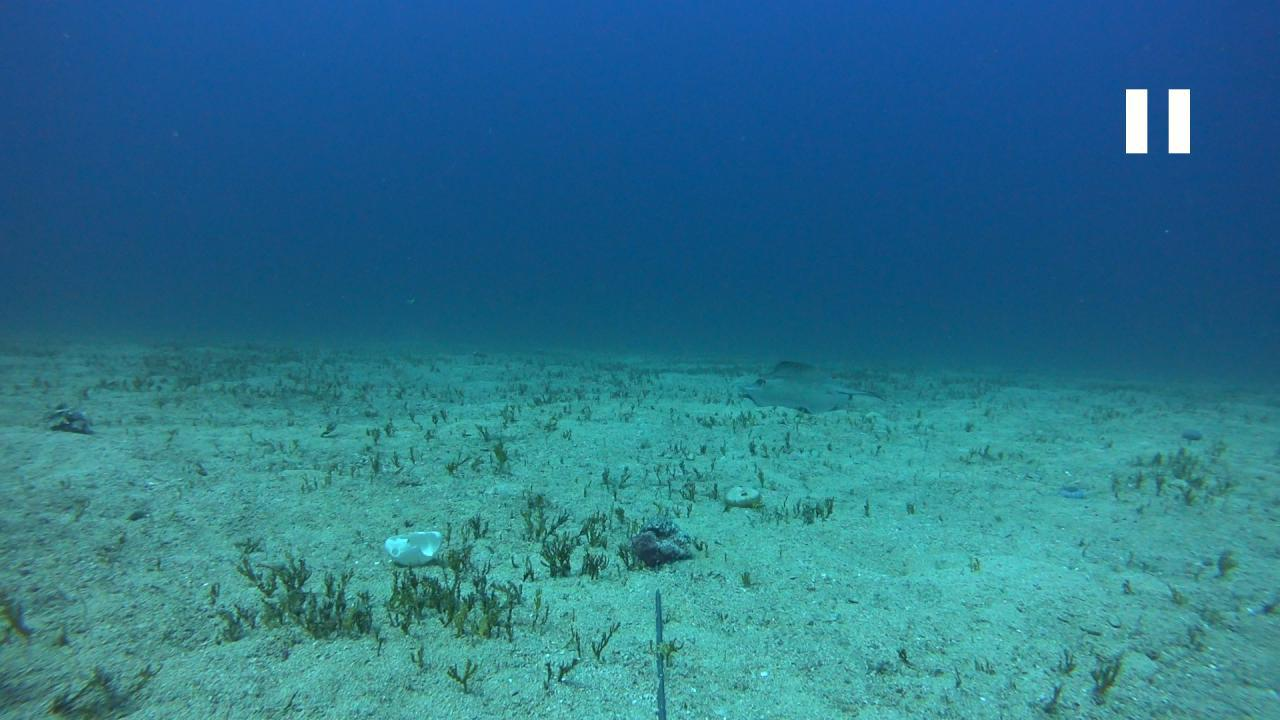dasyatis: (738, 360, 889, 413)
